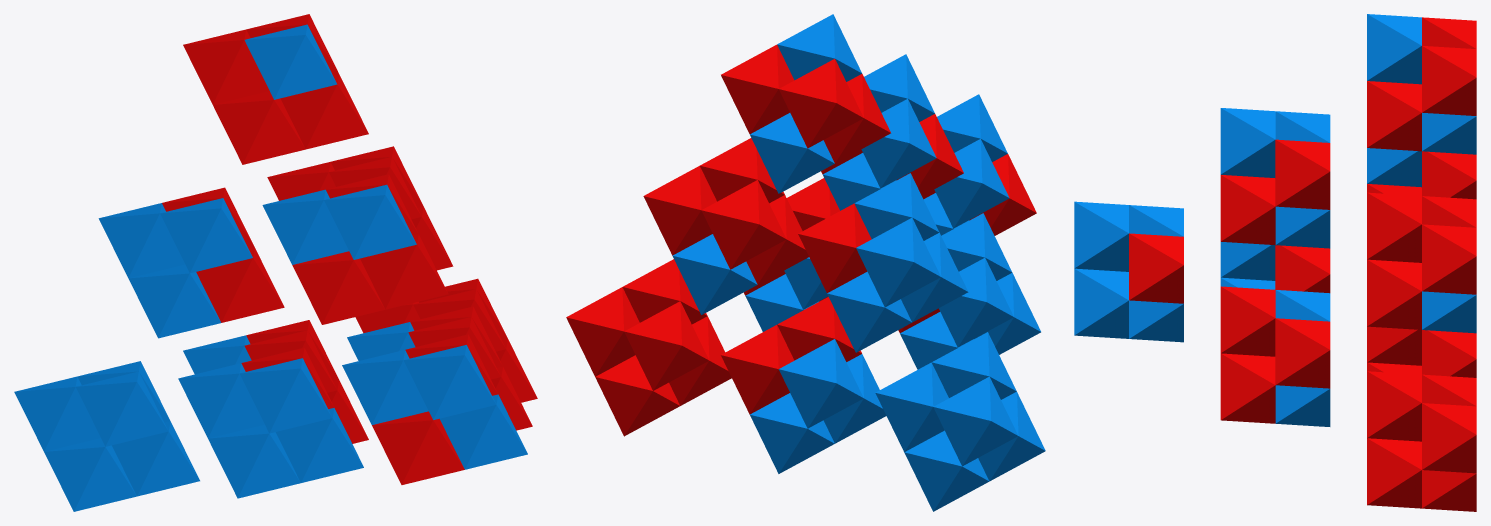
File: tet2.glb
The picture shows the model from 3 angles, left to right: view 1: azimuth 30°, elevation 25°; view 2: azimuth 150°, elevation 25°; view 3: azimuth 270°, elevation 25°; orthographic projection. The views are drawn at different scales.
Bounding box in the file's own units: 2.75 × 2.6 × 2.25.
